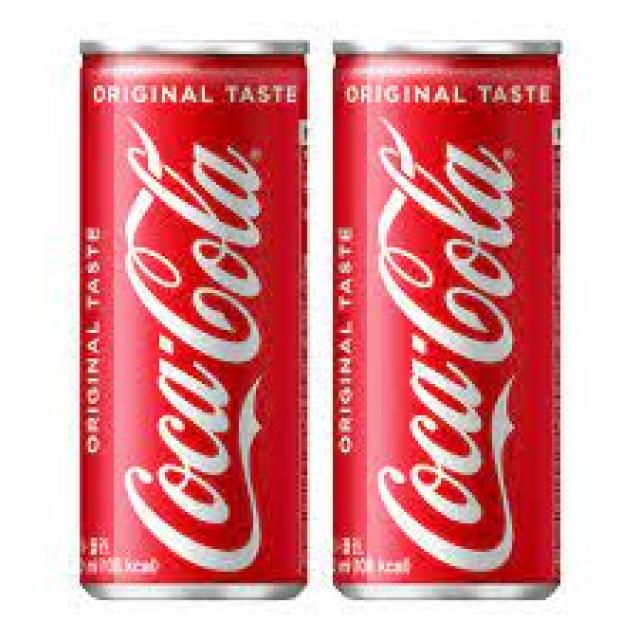Coca-Cola: (68, 32, 314, 604), (329, 30, 569, 609)
